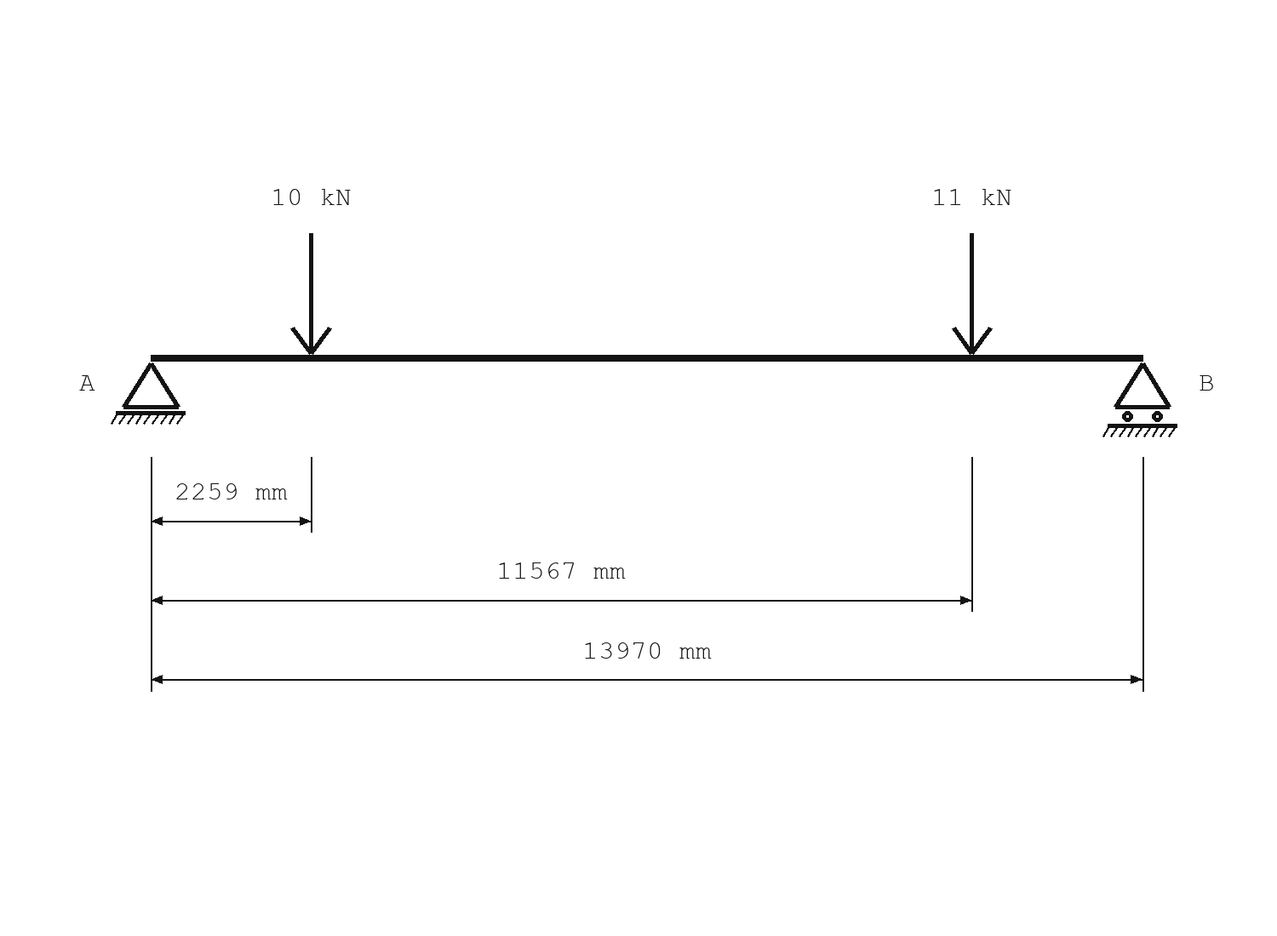pin_support: (111, 362, 186, 425)
point_load: (290, 233, 332, 355), (952, 233, 993, 355)
roller_support: (1102, 362, 1177, 437)
